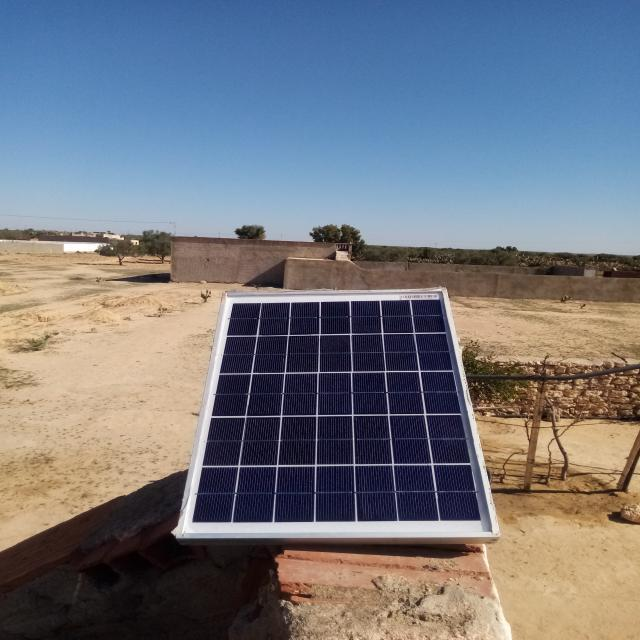no faulty: (181, 286, 492, 535)
